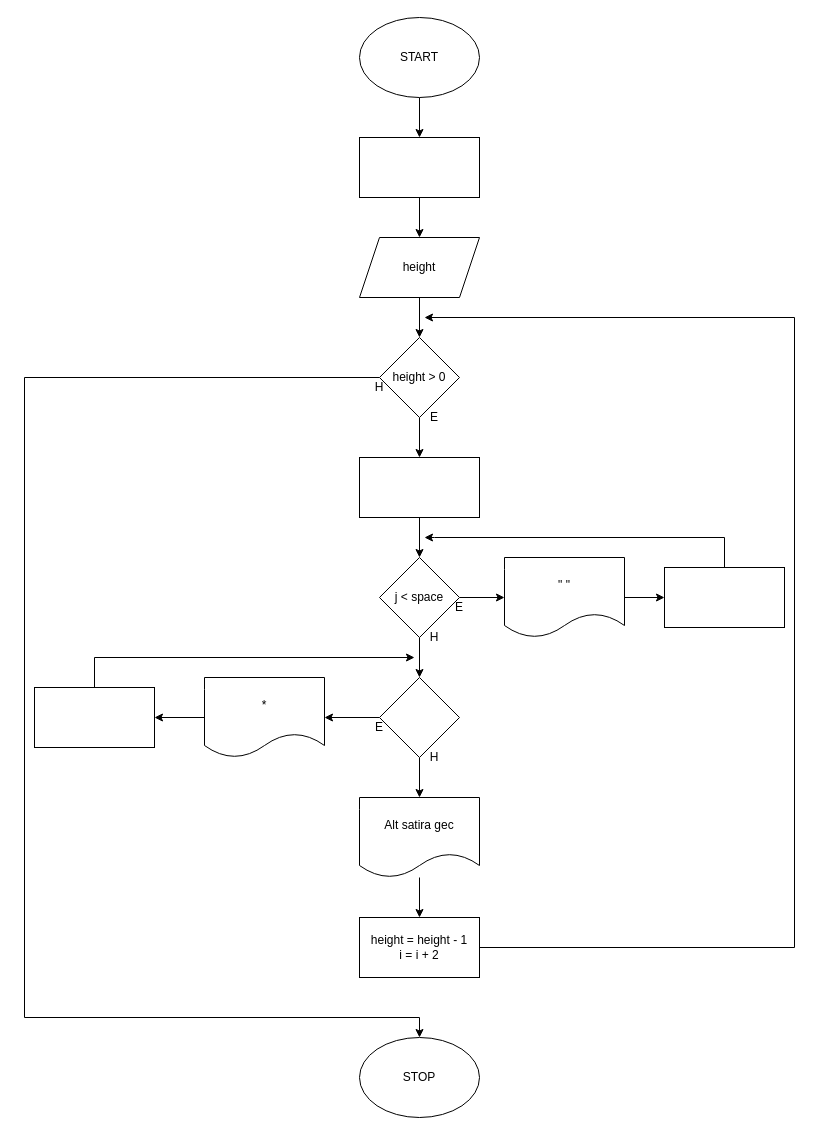
Image size: 820x1135. Some labels were removed from this diagram. The box of each missing label's shape, as (x1, y1, x2, y2) in pixels:
height, space, star, i, j, k: (358, 136, 480, 198)
j = j + 1: (664, 566, 784, 628)
k < star: (378, 676, 460, 758)
k = k + 1: (34, 686, 154, 748)
space = height - 1 star = i + 1: (358, 456, 480, 518)
